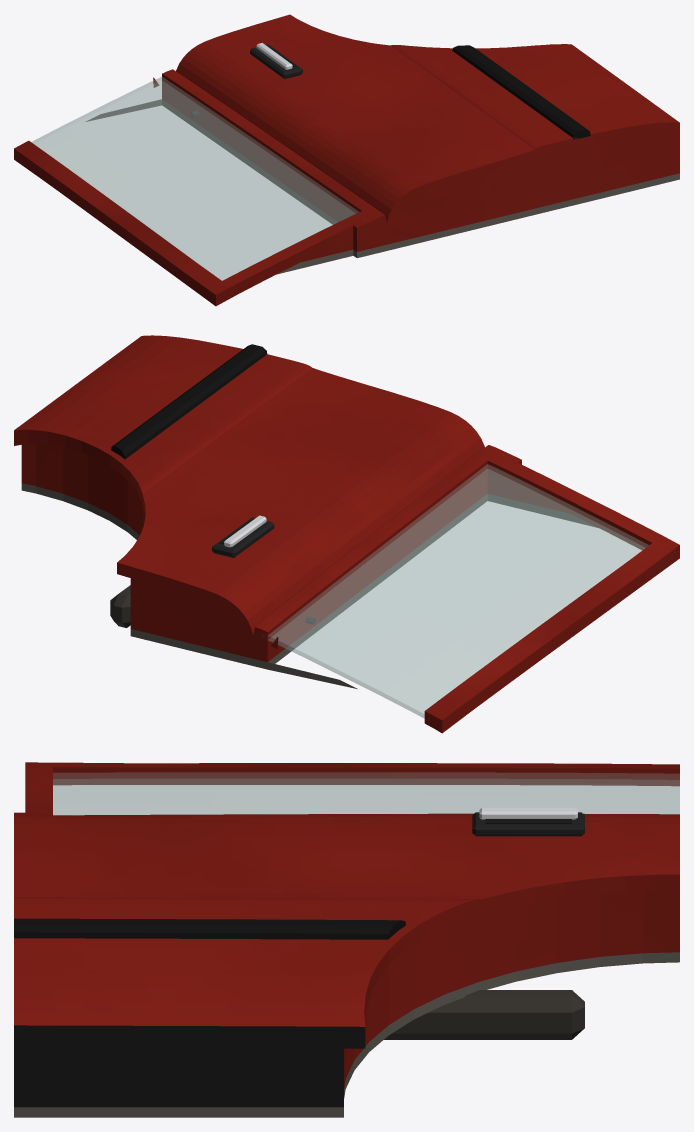
File: porta_traseira_e_hatch.glb
3 views of the same model, one above another, from view 1: azimuth 30°, elevation 25°; view 2: azimuth 150°, elevation 25°; view 3: azimuth 270°, elevation 25° (orthographic). The views are drawn at different scales.
Parts seen in each view (by area): view 1: porta_traseira_e_hatch_pintura, porta_traseira_e_hatch_vidro, porta_traseira_e_hatch_forro_porta, porta_traseira_e_hatch_borracha, porta_traseira_e_hatch_plastico_preto; view 2: porta_traseira_e_hatch_pintura, porta_traseira_e_hatch_vidro, porta_traseira_e_hatch_forro_porta, porta_traseira_e_hatch_borracha, porta_traseira_e_hatch_plastico_preto, porta_traseira_e_hatch_vinil; view 3: porta_traseira_e_hatch_pintura, porta_traseira_e_hatch_chassi, porta_traseira_e_hatch_vidro, porta_traseira_e_hatch_borracha, porta_traseira_e_hatch_vinil, porta_traseira_e_hatch_forro_porta, porta_traseira_e_hatch_plastico_preto, porta_traseira_e_hatch_cromado.
Part boxes in pixels (box(x1,y1,x2,y2)): porta_traseira_e_hatch_pintura: box(14, 14, 679, 306); porta_traseira_e_hatch_vidro: box(31, 77, 358, 280); porta_traseira_e_hatch_forro_porta: box(86, 99, 679, 274); porta_traseira_e_hatch_borracha: box(452, 45, 590, 139); porta_traseira_e_hatch_plastico_preto: box(190, 44, 302, 117); porta_traseira_e_hatch_pintura: box(14, 335, 679, 733); porta_traseira_e_hatch_vidro: box(262, 464, 648, 718); porta_traseira_e_hatch_forro_porta: box(21, 483, 597, 688); porta_traseira_e_hatch_borracha: box(111, 344, 267, 459); porta_traseira_e_hatch_plastico_preto: box(212, 517, 315, 624); porta_traseira_e_hatch_vinil: box(110, 585, 130, 627); porta_traseira_e_hatch_pintura: box(14, 762, 679, 1088); porta_traseira_e_hatch_chassi: box(14, 819, 571, 1107); porta_traseira_e_hatch_vidro: box(53, 772, 679, 815); porta_traseira_e_hatch_borracha: box(14, 918, 405, 939); porta_traseira_e_hatch_vinil: box(384, 990, 584, 1039); porta_traseira_e_hatch_forro_porta: box(14, 952, 679, 1117); porta_traseira_e_hatch_plastico_preto: box(472, 812, 584, 836); porta_traseira_e_hatch_cromado: box(479, 807, 577, 819).
Size of the model in its own units: 0.997 by 0.2052 by 0.77.
9 materials, 1 textured.
